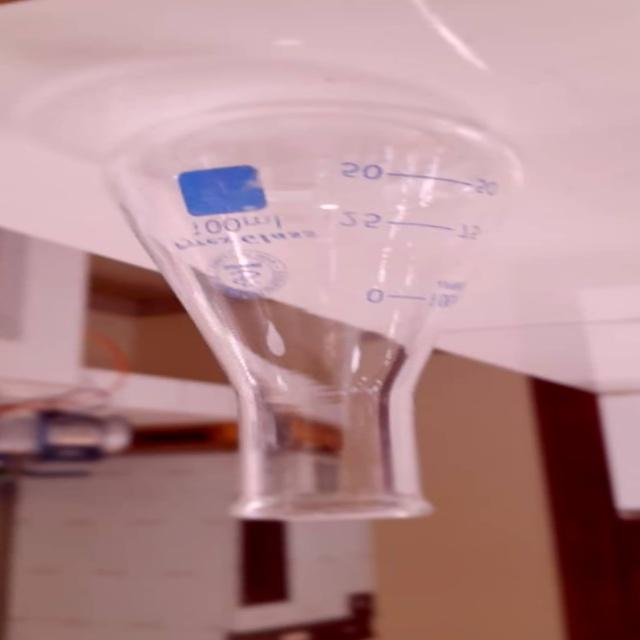Conical Flask: (82, 102, 570, 536)
